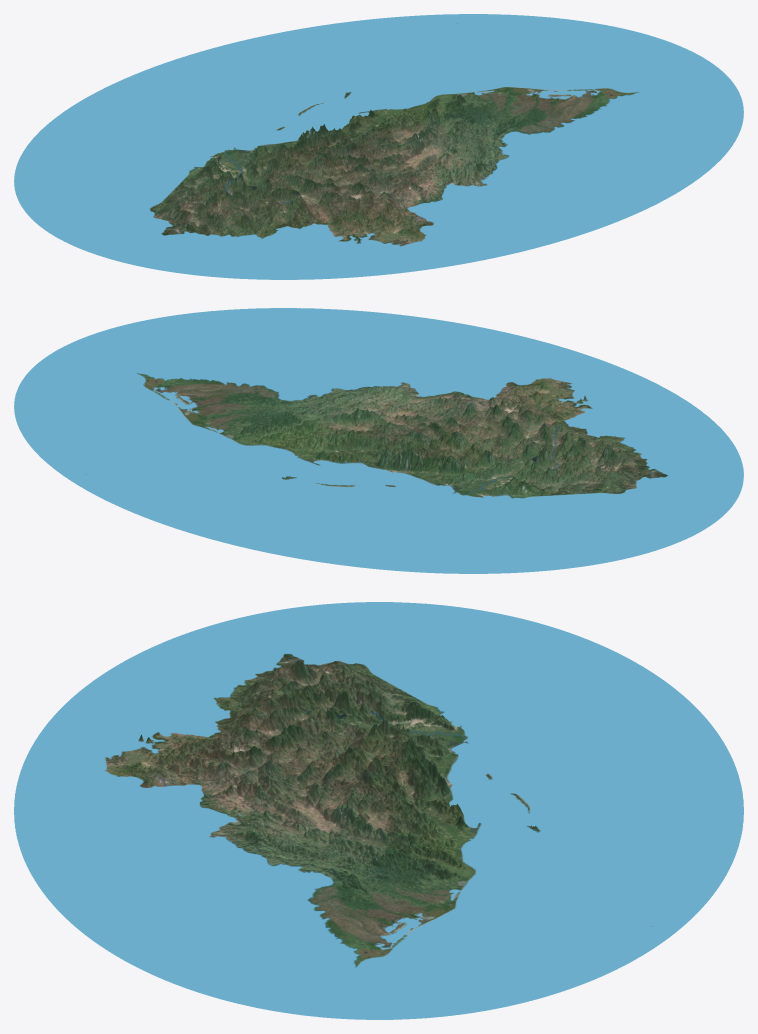
File: HND-previa-terrain.glb
3 views of the same model, one above another, from view 1: azimuth 30°, elevation 25°; view 2: azimuth 150°, elevation 25°; view 3: azimuth 270°, elevation 25° (orthographic). The views are drawn at different scales.
Parts seen in each view (by area): view 1: Honduras; view 2: Honduras; view 3: Honduras.
Boxes of the visible parts, <box> form: Honduras: <box>14,14,743,279</box>; Honduras: <box>14,308,743,573</box>; Honduras: <box>14,602,743,1019</box>.
Bounding box in the file's own units: 2.35 × 0.0725 × 1.73.
Materials: 1 (1 with a texture image).
